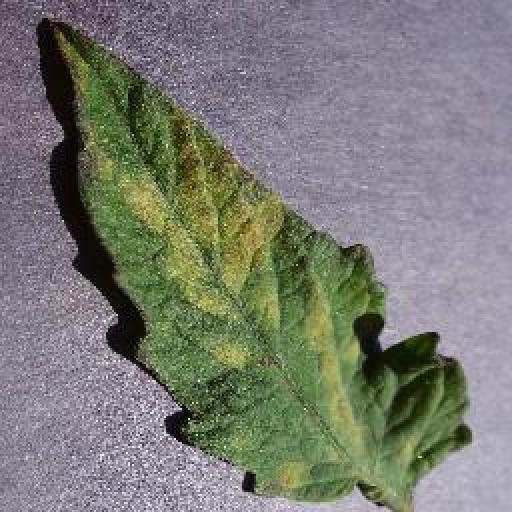disease_tomato: (54, 17, 476, 500)
